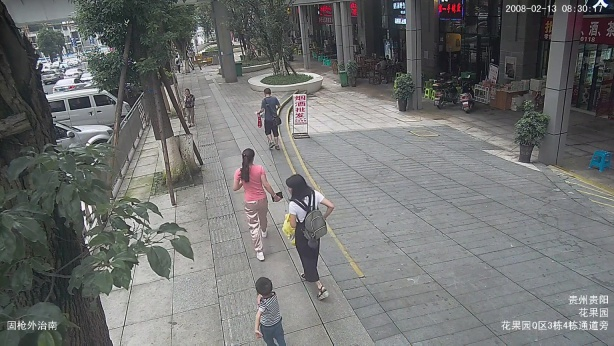person: (282, 173, 341, 305), (228, 148, 279, 266), (247, 276, 289, 346), (258, 86, 284, 149), (183, 87, 201, 129)
